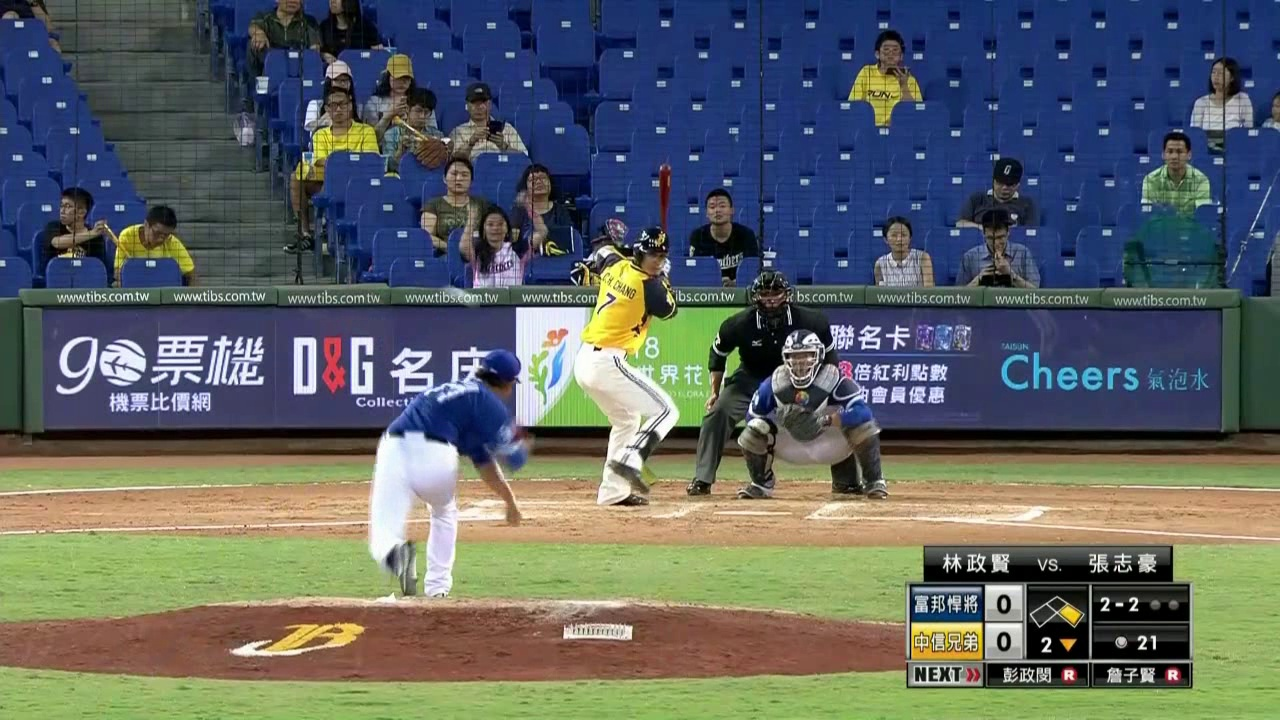ball: (451, 286, 470, 305)
base: (1027, 594, 1086, 629)
bat: (656, 161, 674, 262)
out: (1146, 588, 1186, 620)
score1: (987, 588, 1023, 617)
score2: (986, 626, 1022, 659)
session: (1029, 630, 1087, 660)
strikeball: (1093, 590, 1144, 621)
total: (1097, 630, 1188, 657)
